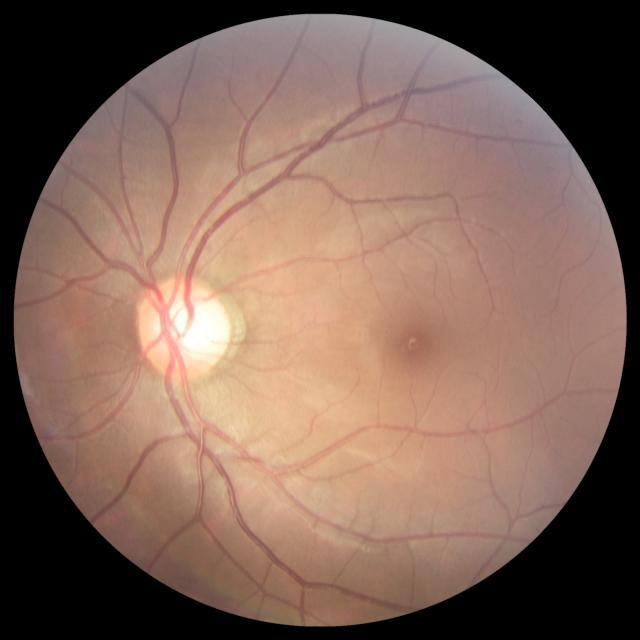OC: (153, 294, 221, 362)
OD: (136, 274, 230, 382)
